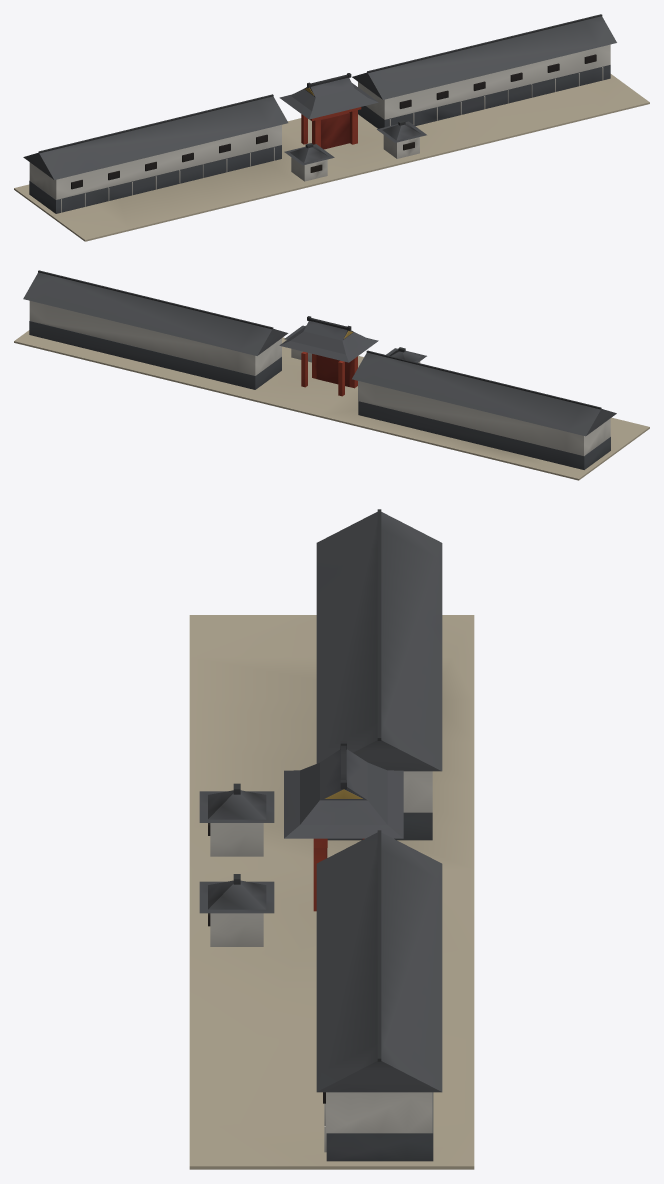
The model's file is kaga-akamon.glb.
The picture shows the model from 3 angles, top to bottom: view 1: azimuth 30°, elevation 25°; view 2: azimuth 150°, elevation 25°; view 3: azimuth 270°, elevation 25°; orthographic projection. The views are drawn at different scales.
Parts seen in each view (by area): view 1: p1_nagaya, p0_ground, p2_Akamon; view 2: p1_nagaya, p0_ground, p2_Akamon; view 3: p0_ground, p1_nagaya, p2_Akamon.
Part boxes in pixels (bbox=[...]): p1_nagaya: bbox=[23, 14, 616, 213]; p0_ground: bbox=[14, 74, 649, 241]; p2_Akamon: bbox=[279, 73, 378, 149]; p1_nagaya: bbox=[23, 270, 616, 469]; p0_ground: bbox=[14, 330, 649, 480]; p2_Akamon: bbox=[279, 316, 378, 396]; p0_ground: bbox=[189, 615, 474, 1169]; p1_nagaya: bbox=[199, 509, 442, 1161]; p2_Akamon: bbox=[284, 741, 403, 911].
Bounding box in the file's own units: 110 × 12.3 × 24.
